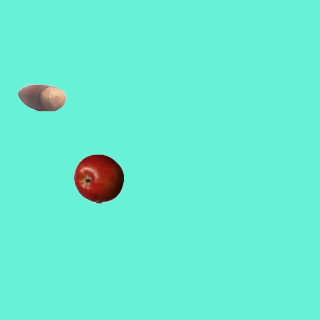Apple Braeburn: (73, 153, 123, 203)
Hazelnut: (16, 72, 66, 122)
